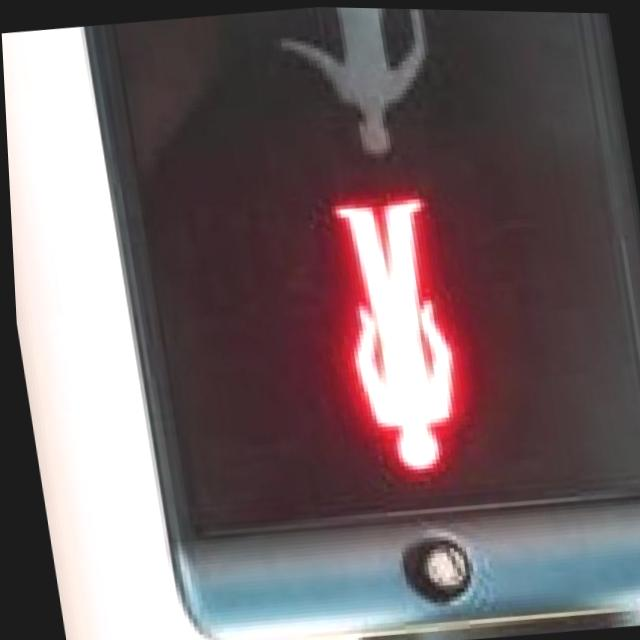red_light: (260, 171, 515, 507)
